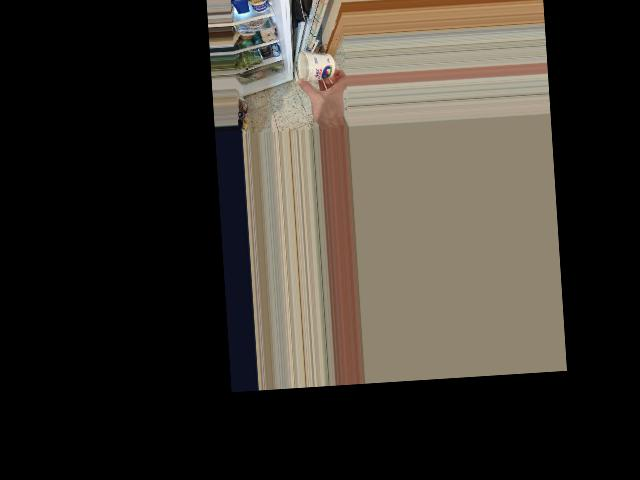cotage: (299, 51, 336, 84)
